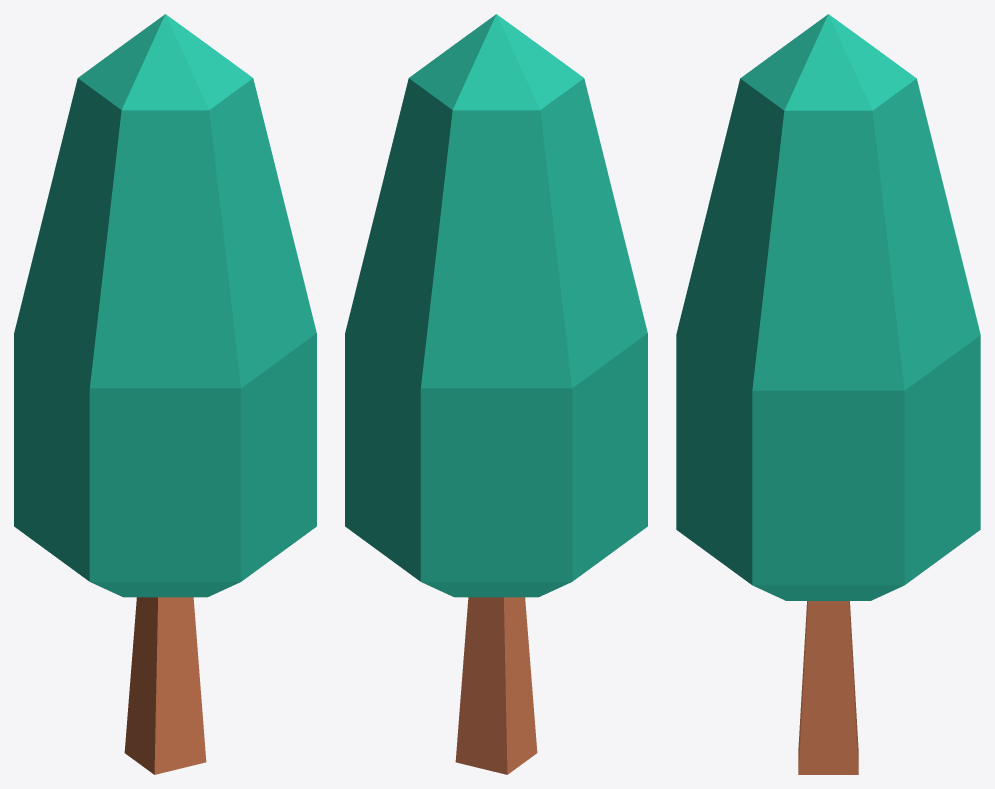
File: tree_small.obj
The picture shows the model from 3 angles, left to right: view 1: azimuth 30°, elevation 25°; view 2: azimuth 150°, elevation 25°; view 3: azimuth 270°, elevation 25°; orthographic projection.
Parts seen in each view (by area): view 1: tree_small; view 2: tree_small; view 3: tree_small.
Part boxes in pixels (bbox=[...]): tree_small: bbox=[14, 14, 316, 774]; tree_small: bbox=[345, 14, 647, 774]; tree_small: bbox=[676, 14, 980, 774].
Bounding box in the file's own units: 0.3546 × 1.11 × 0.4095.
